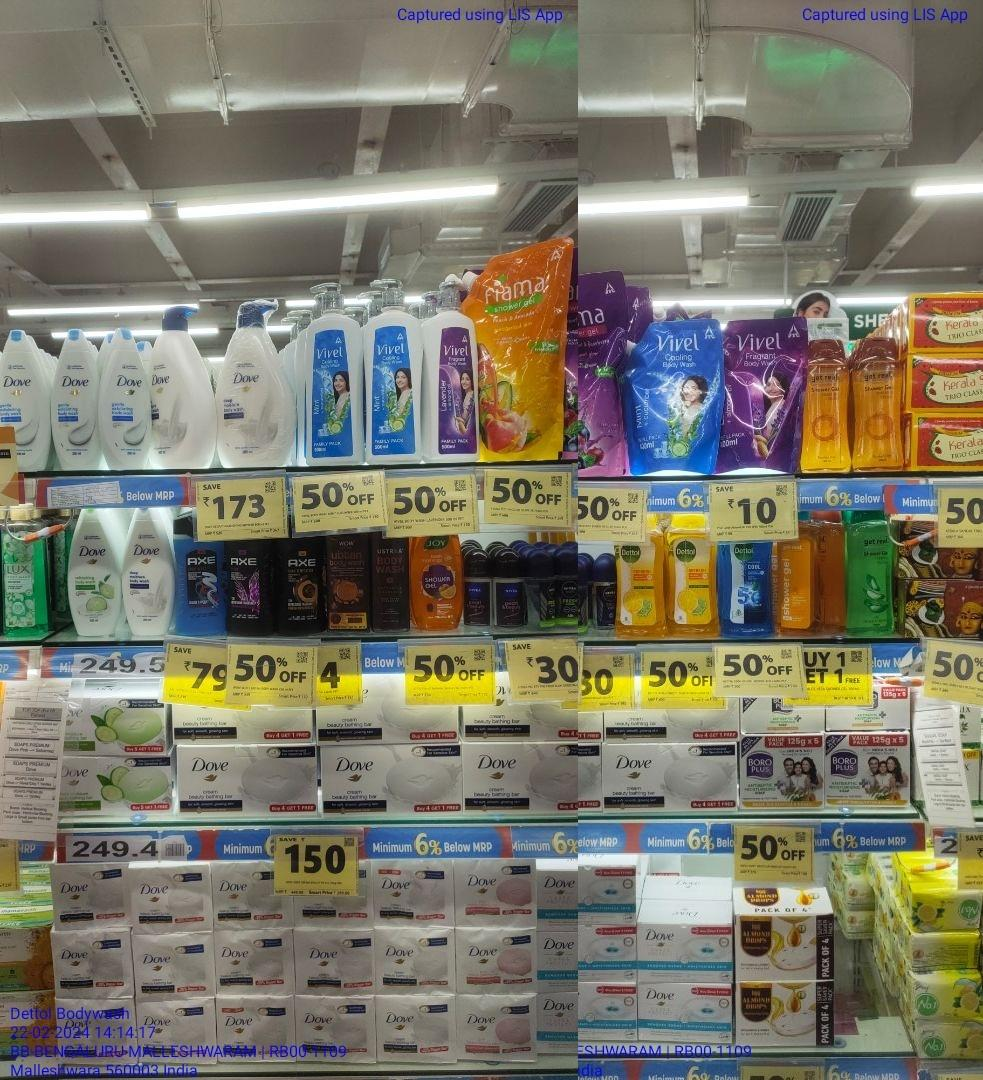Dettol_Bodywash_Cool: (720, 541, 777, 639)
Dettol_Bodywash_Refresh: (669, 514, 718, 637), (615, 537, 667, 637)
Dove_Deep_Moisture_Body_Wash_250ML: (126, 506, 174, 638)
Dove_Refreshing_Body_Wash_250ML: (68, 507, 124, 642)
Get_Real_Shower_Gel_Moisturising_Glycerin_300ML: (103, 327, 153, 471), (51, 327, 99, 469), (0, 331, 48, 472)
Joy_Shower_Gel_Mandarin_and_Lemongrass_250ML: (411, 535, 465, 628)
Lux_Body_Wash_Skin_Detox_Freesia_Scent_and_Alove_Vera_245ML: (3, 504, 50, 635)
